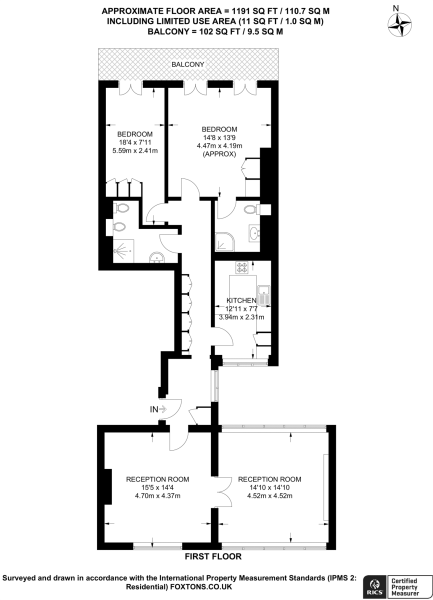GrossArea: (100, 5, 332, 17)
